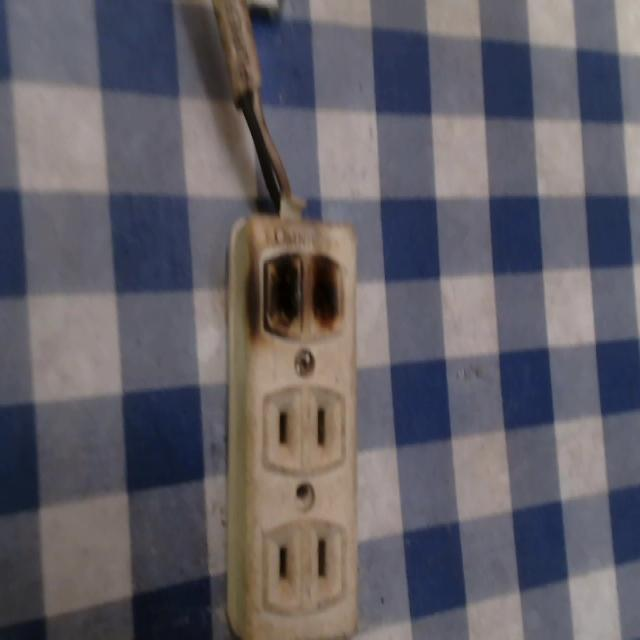-: (241, 243, 354, 341)
